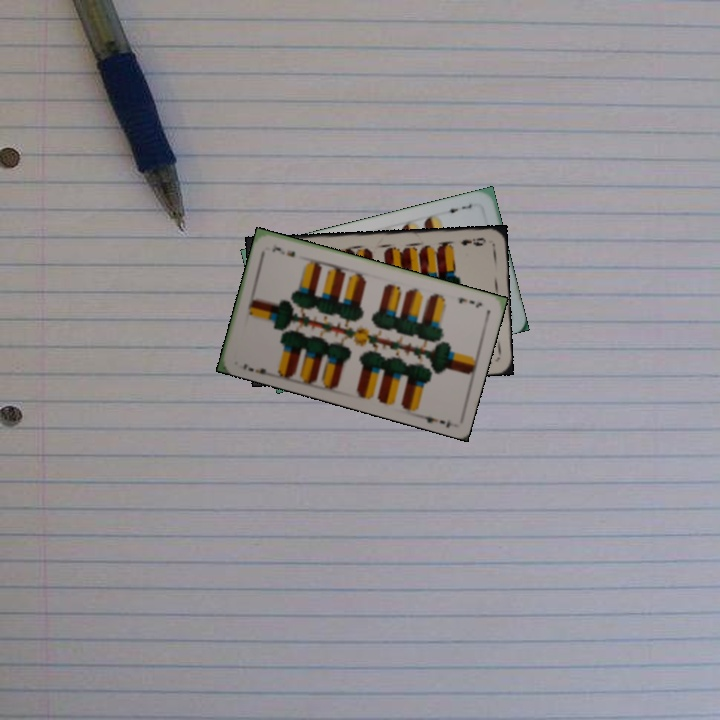E7: (239, 359, 273, 379), (440, 200, 474, 216), (454, 294, 485, 310)
E9: (457, 234, 488, 249)
